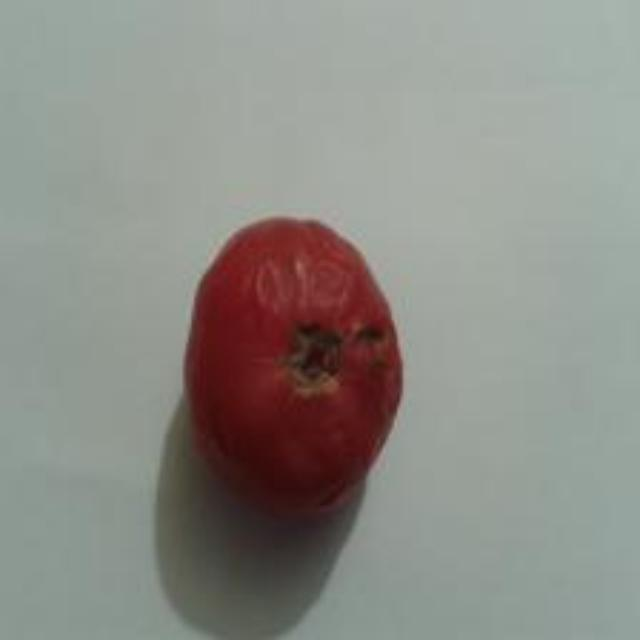defect: (180, 213, 407, 525)
